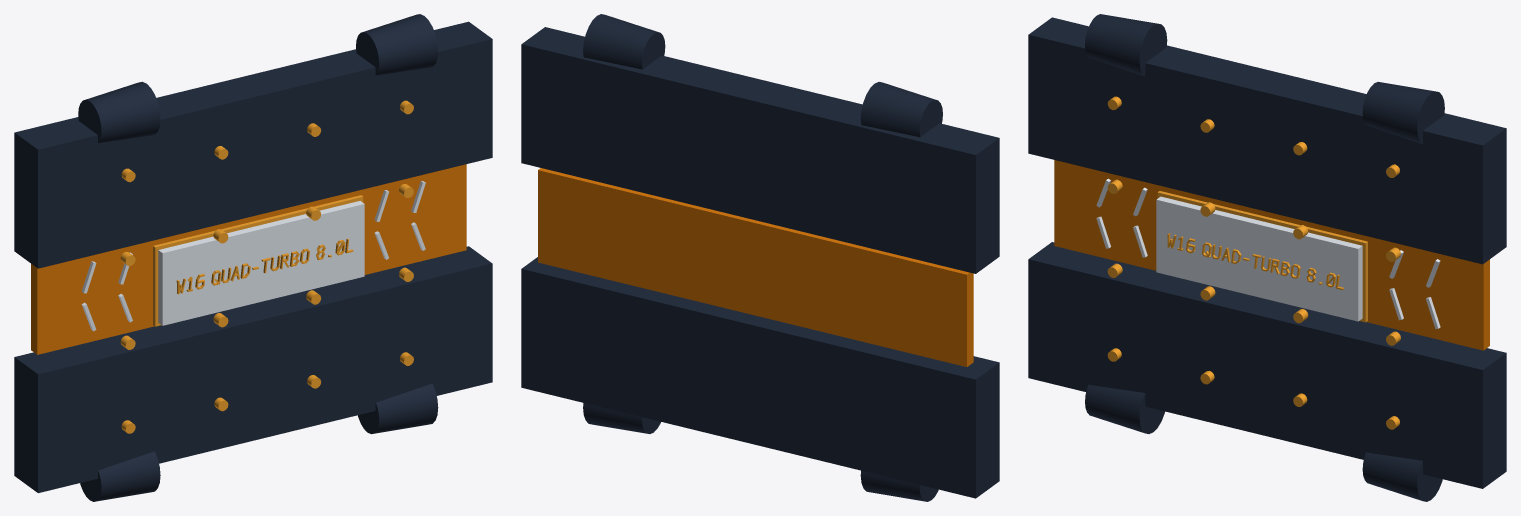
File: engine_cover_w16_quad_turbo_hypersport.glb
3 renders of one model, left to right at view 1: azimuth 30°, elevation 25°; view 2: azimuth 150°, elevation 25°; view 3: azimuth 330°, elevation 25°, orthographic.
Parts seen in each view (by area): view 1: Model9_W16_QuadTurbo_Hypersport_Cover; view 2: Model9_W16_QuadTurbo_Hypersport_Cover; view 3: Model9_W16_QuadTurbo_Hypersport_Cover.
Boxes of the visible parts, x1,y1,x2,y2 form: Model9_W16_QuadTurbo_Hypersport_Cover: [14, 14, 492, 501]; Model9_W16_QuadTurbo_Hypersport_Cover: [521, 14, 999, 501]; Model9_W16_QuadTurbo_Hypersport_Cover: [1028, 14, 1506, 501].
Size of the model in its own units: 0.72 by 0.616 by 0.0805.
